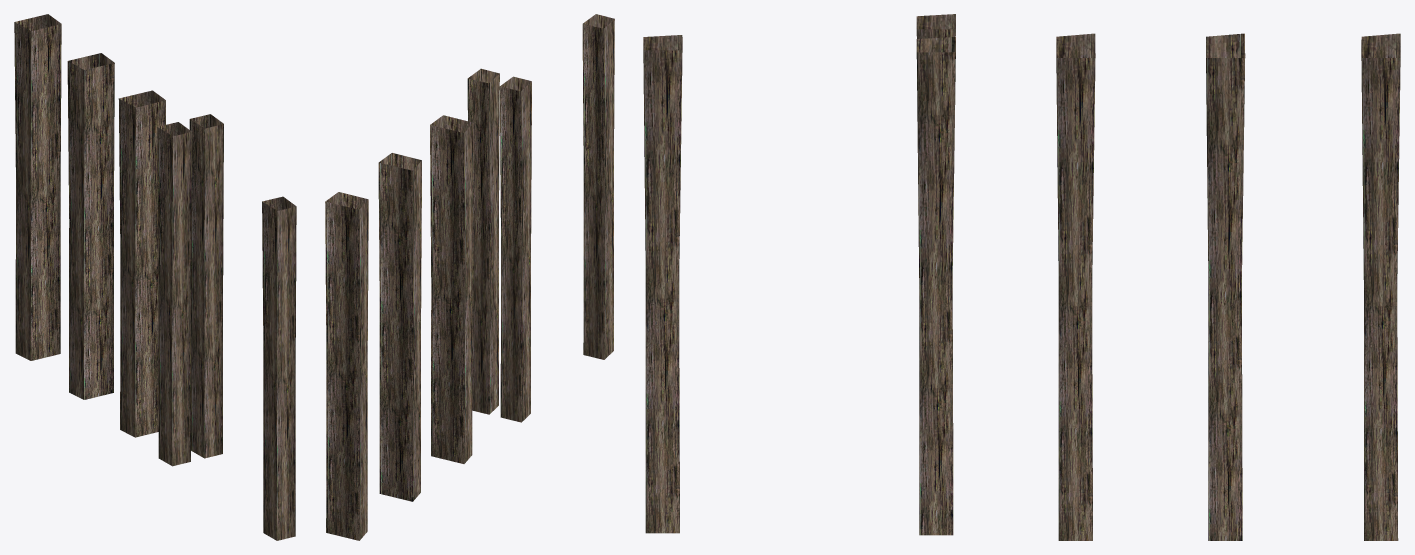
File: LAKETOWN_WAREHOUSE3_PS_WH3_ROTBEAMS_993838.fbx
3 views of the same model, side by side, from view 1: azimuth 30°, elevation 25°; view 2: azimuth 150°, elevation 25°; view 3: azimuth 270°, elevation 25° (orthographic). The views are drawn at different scales.
Visible parts, largest first — view 1: LAKETOWN_WAREHOUSE3_PS_WH3_ROTBEAMS_993838; view 2: LAKETOWN_WAREHOUSE3_PS_WH3_ROTBEAMS_993838; view 3: LAKETOWN_WAREHOUSE3_PS_WH3_ROTBEAMS_993838.
Part boxes in pixels (<box>): LAKETOWN_WAREHOUSE3_PS_WH3_ROTBEAMS_993838: <box>14,14,296,540</box>; LAKETOWN_WAREHOUSE3_PS_WH3_ROTBEAMS_993838: <box>325,14,614,540</box>; LAKETOWN_WAREHOUSE3_PS_WH3_ROTBEAMS_993838: <box>643,14,1400,540</box>.
Bounding box in the file's own units: 13200 × 80455 × 111235.
Materials: 1 (1 with a texture image).
